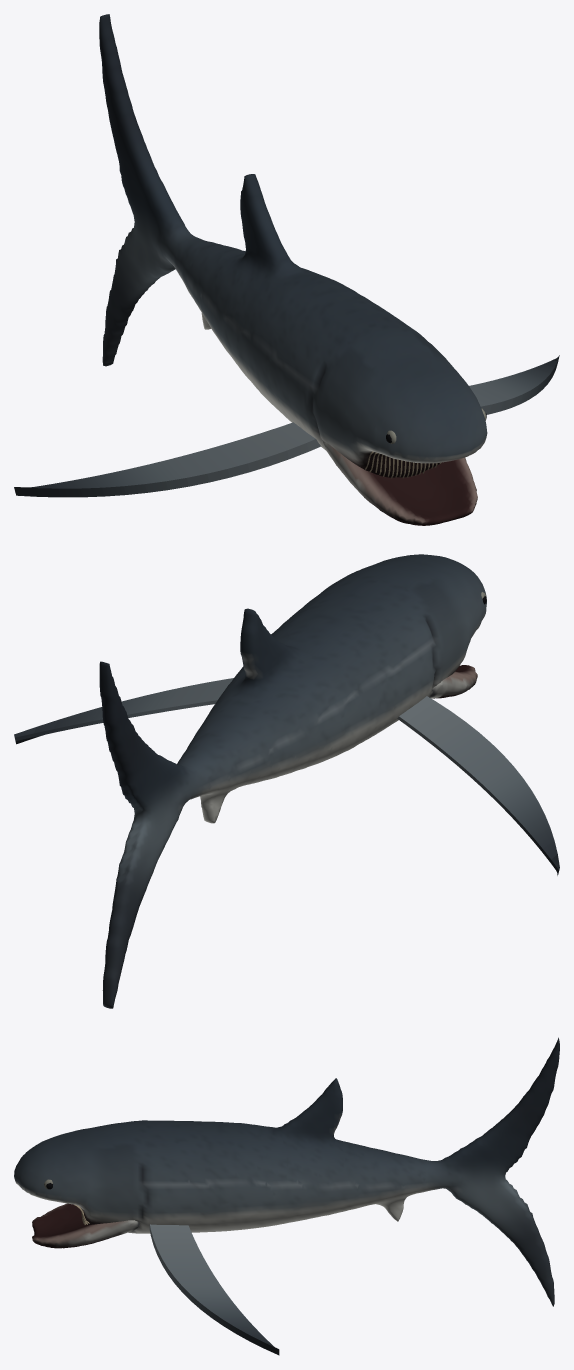
File: Leedsichthys.fbx
The picture shows the model from 3 angles, top to bottom: view 1: azimuth 30°, elevation 25°; view 2: azimuth 150°, elevation 25°; view 3: azimuth 270°, elevation 25°; orthographic projection. The views are drawn at different scales.
Visible parts, largest first — view 1: Leedsichthys; view 2: Leedsichthys; view 3: Leedsichthys.
Boxes of the visible parts, <box> form: Leedsichthys: <box>14,14,559,525</box>; Leedsichthys: <box>14,554,559,1008</box>; Leedsichthys: <box>14,1037,559,1355</box>.
Size of the model in its own units: 1.78 by 1.08 by 2.01.
